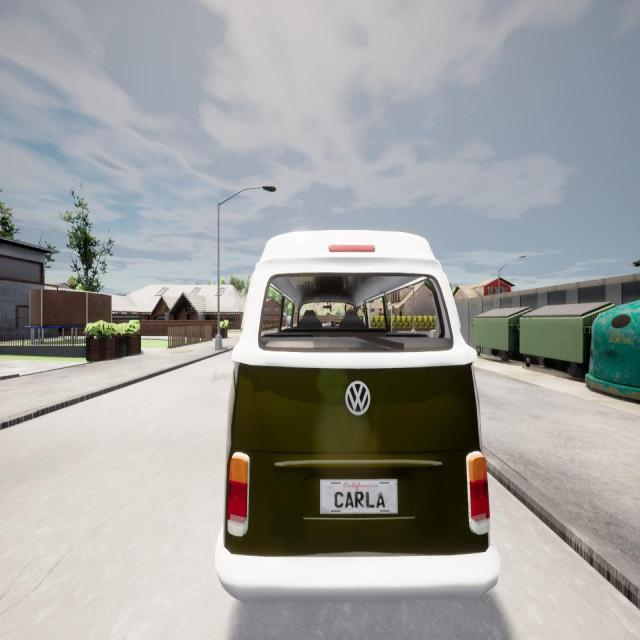Vehicle: (216, 231, 500, 600)
